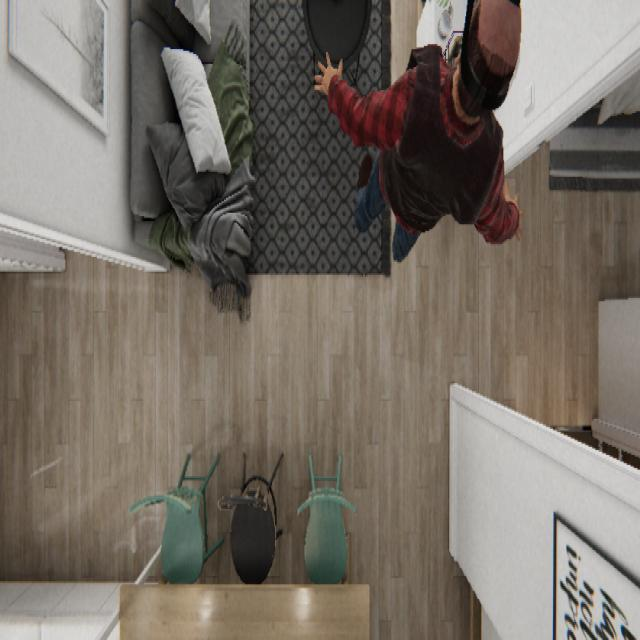Human: (312, 0, 524, 262)
